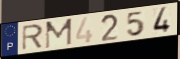2: (100, 13, 121, 42)
4: (151, 6, 172, 36), (74, 16, 95, 44)
5: (126, 9, 147, 38)
M: (44, 17, 74, 51)
R: (21, 23, 45, 52)
